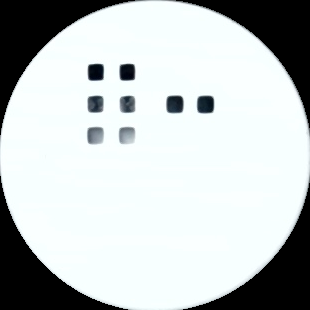检查点: (165, 95, 185, 114), (86, 126, 105, 146), (197, 94, 215, 115), (118, 126, 136, 146), (87, 63, 105, 82), (87, 95, 105, 113), (119, 95, 136, 114), (119, 64, 136, 82)
